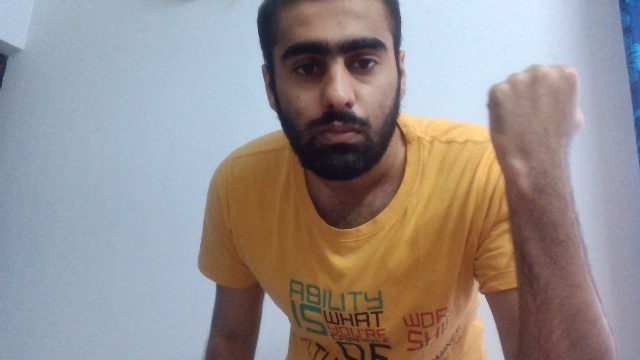rock: (485, 63, 584, 173)
